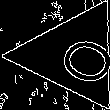O_NW: (35, 24, 110, 87)
